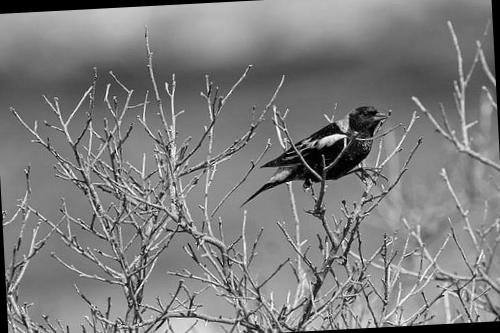bird: (226, 96, 400, 215)
